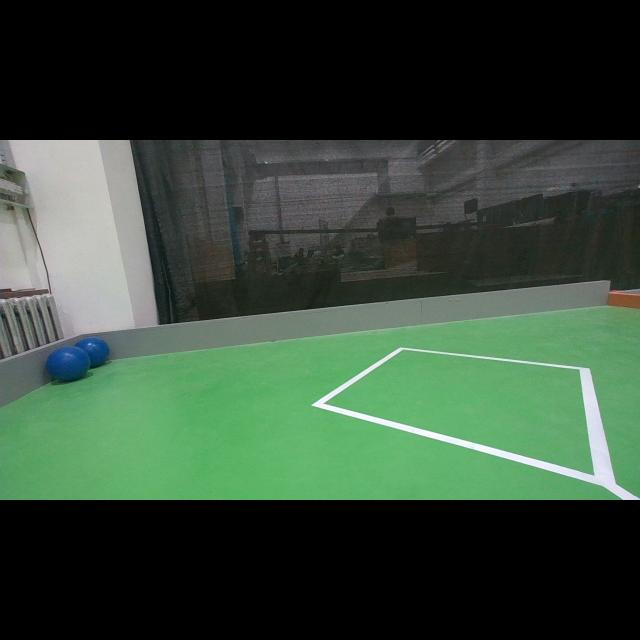B: (46, 346, 90, 382), (76, 336, 114, 369)
